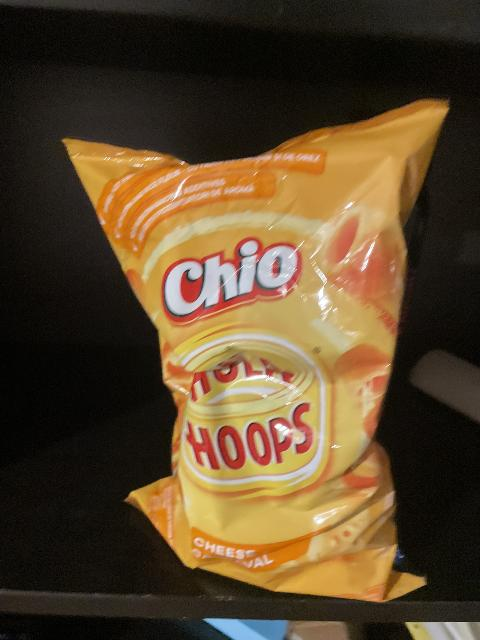Chio Hula Hoops Cheese 70g: (65, 105, 448, 600)
